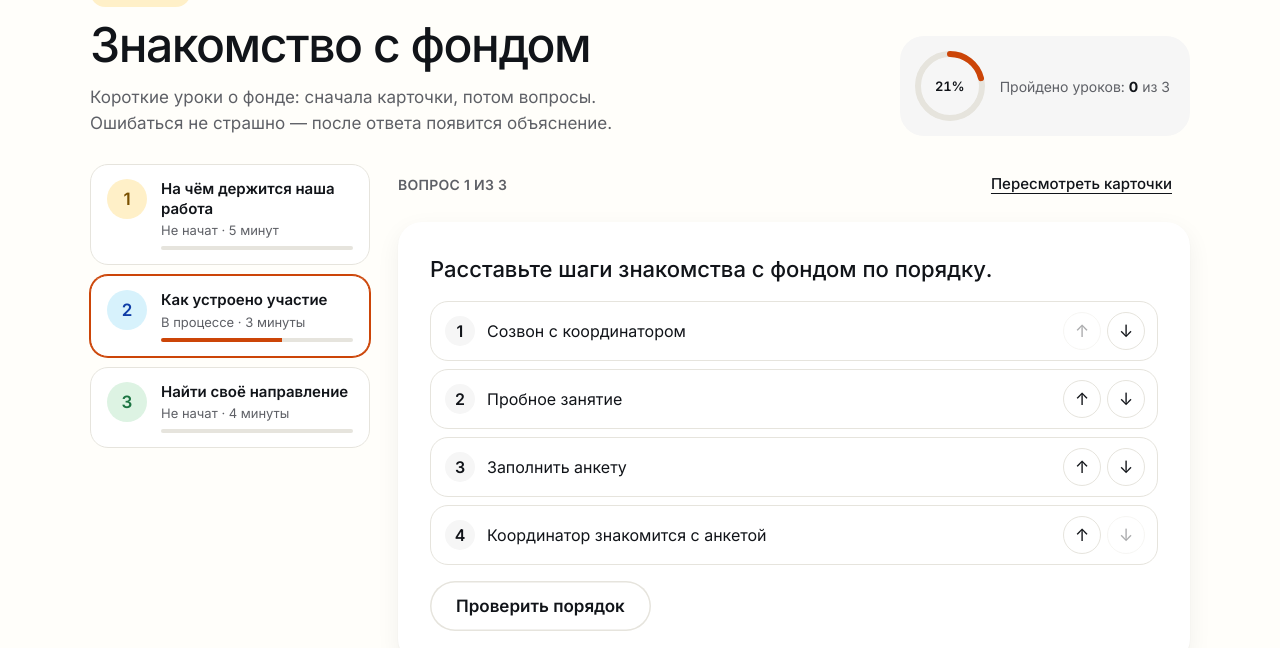
Test: learning page › orders steps with buttons and checks the result
Click the button "↑" in the row of "Заполнить анкету" at point(1082, 467), box left=1063, top=448, right=1101, bottom=486
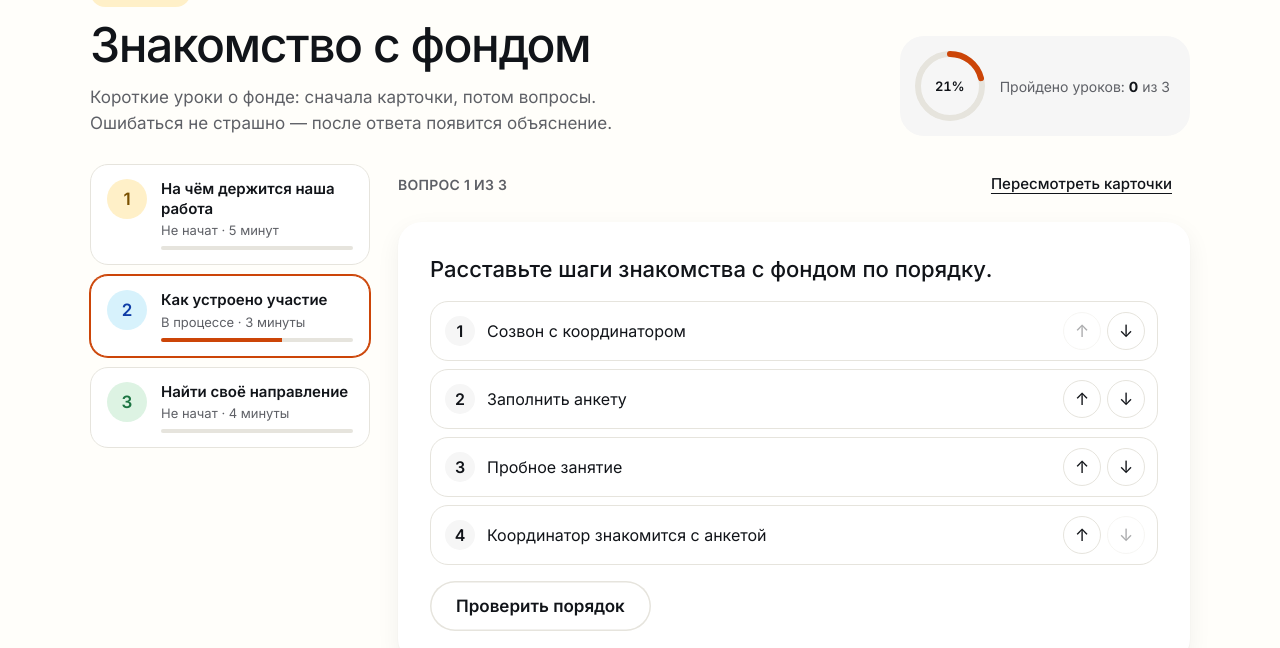
Click the button "↑" in the row of "Заполнить анкету" at point(1082, 399), box left=1063, top=380, right=1101, bottom=418
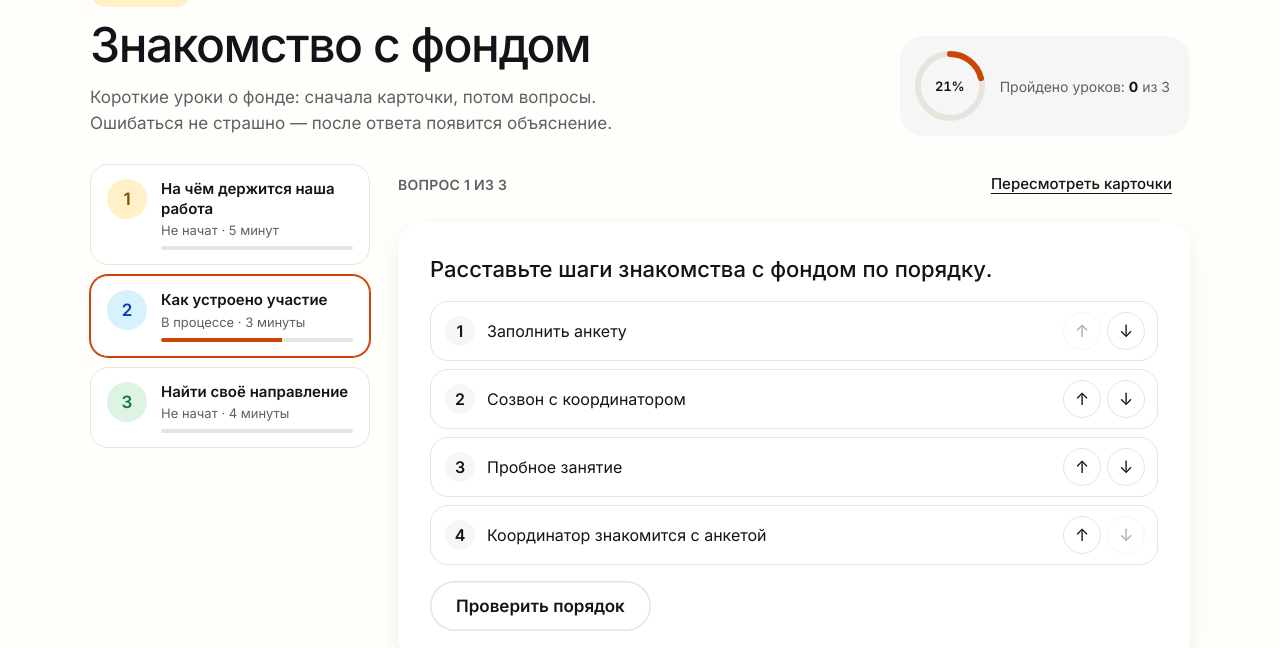
Click the button "↑" in the row of "Координатор знакомится с анкетой" at point(1082, 535), box left=1063, top=516, right=1101, bottom=554
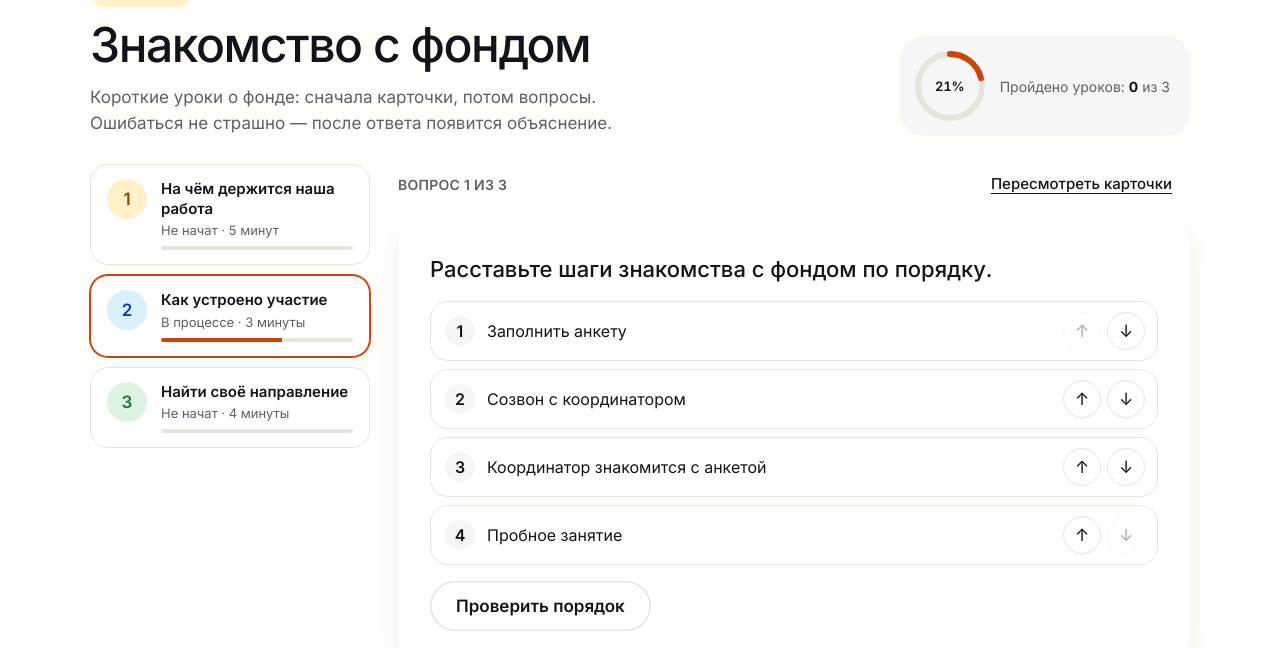
Click the button "↑" in the row of "Координатор знакомится с анкетой" at point(1082, 467), box left=1063, top=448, right=1101, bottom=486
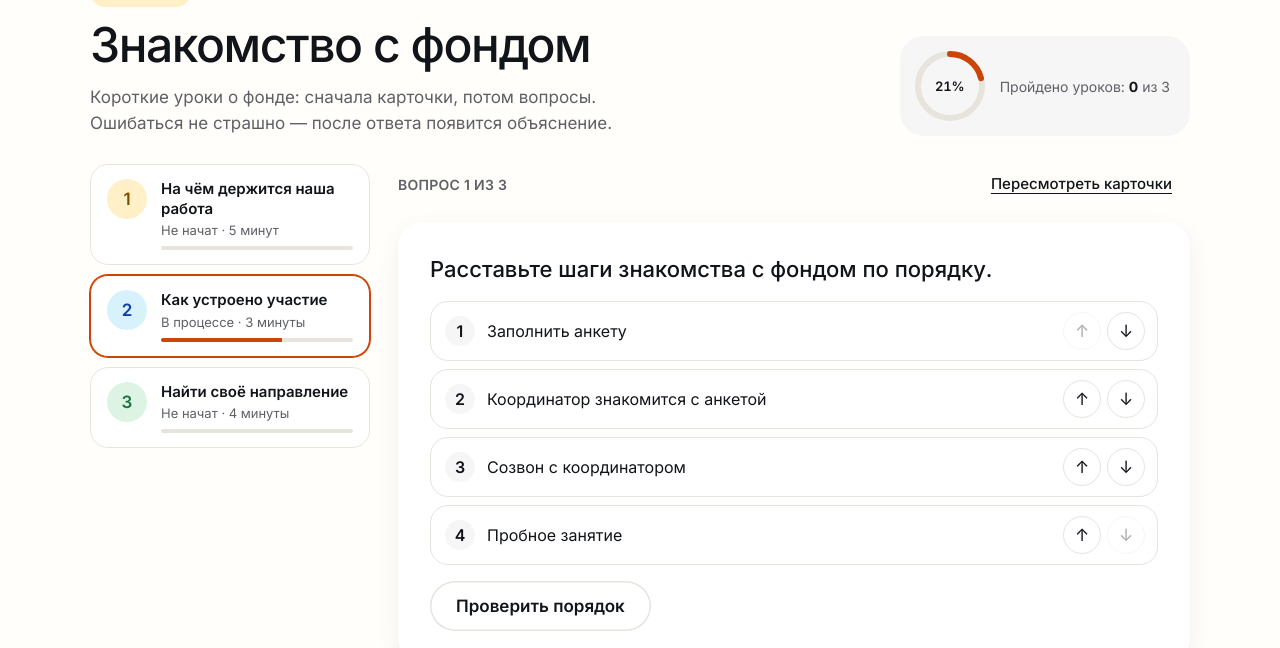
Click the button "Проверить порядок" at point(540, 606), box left=430, top=581, right=651, bottom=631
(page scrolled)
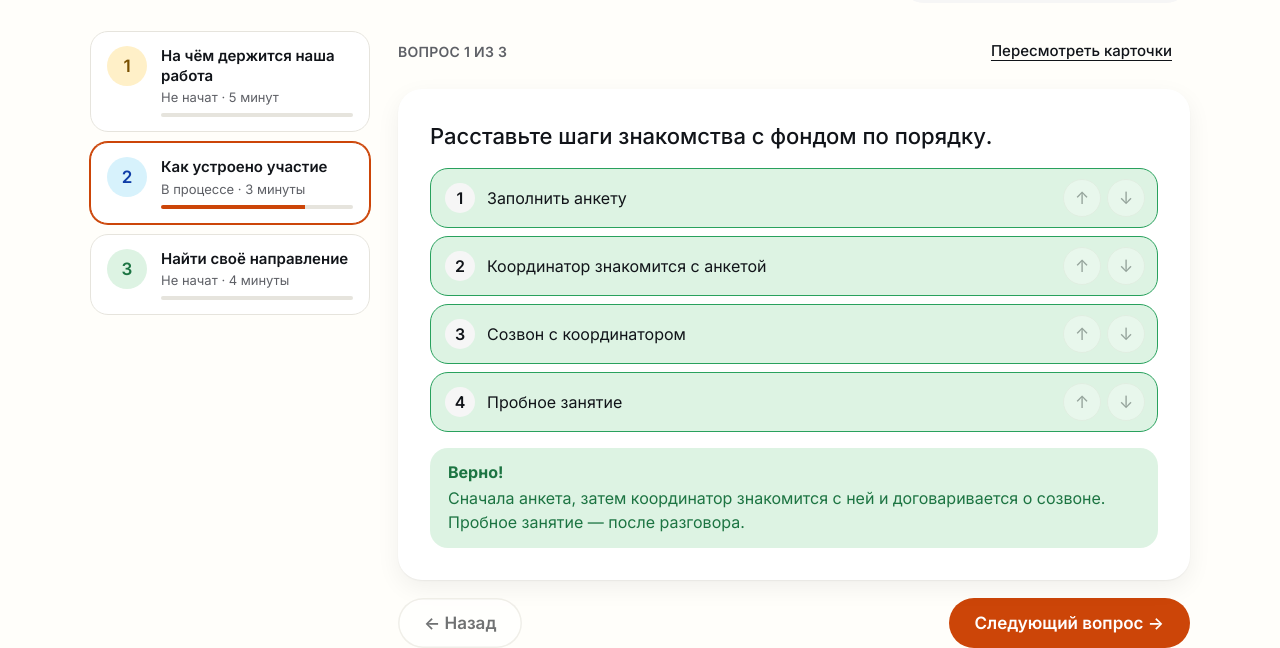
Result: the message shows "Верно!" at left=448, top=462, right=503, bottom=482
